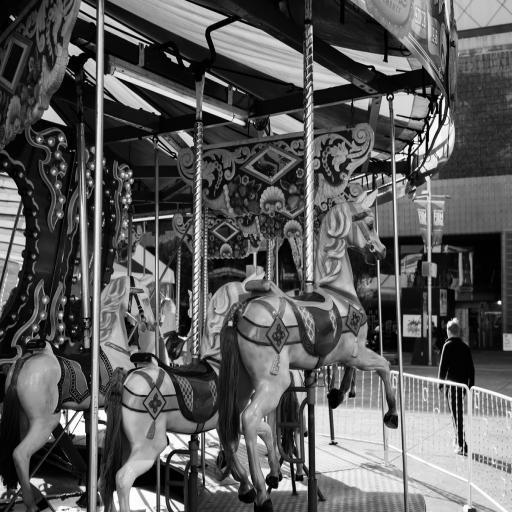horse: (216, 186, 402, 512), (96, 270, 280, 512), (0, 272, 160, 512), (156, 292, 190, 366)
